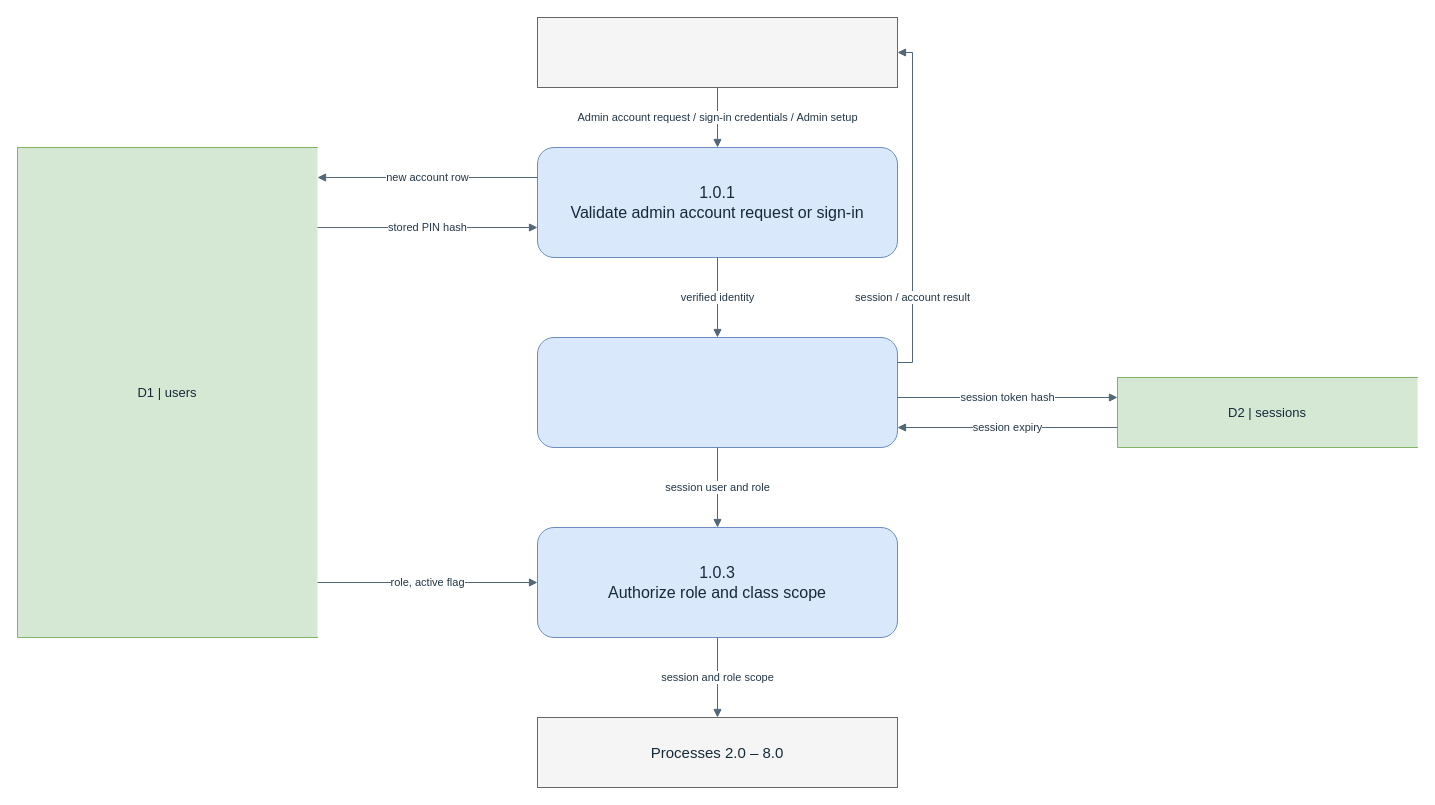
The diagram is 1435 pixels wide and 805 high, and some of its shapes have lost their labels. Here are the shapes that lost their labels. From the top down, the box of each, then its label:
(536, 16, 898, 88): Learner / Teacher / Admin
(536, 336, 898, 448): 1.0.2 Create or verify session
